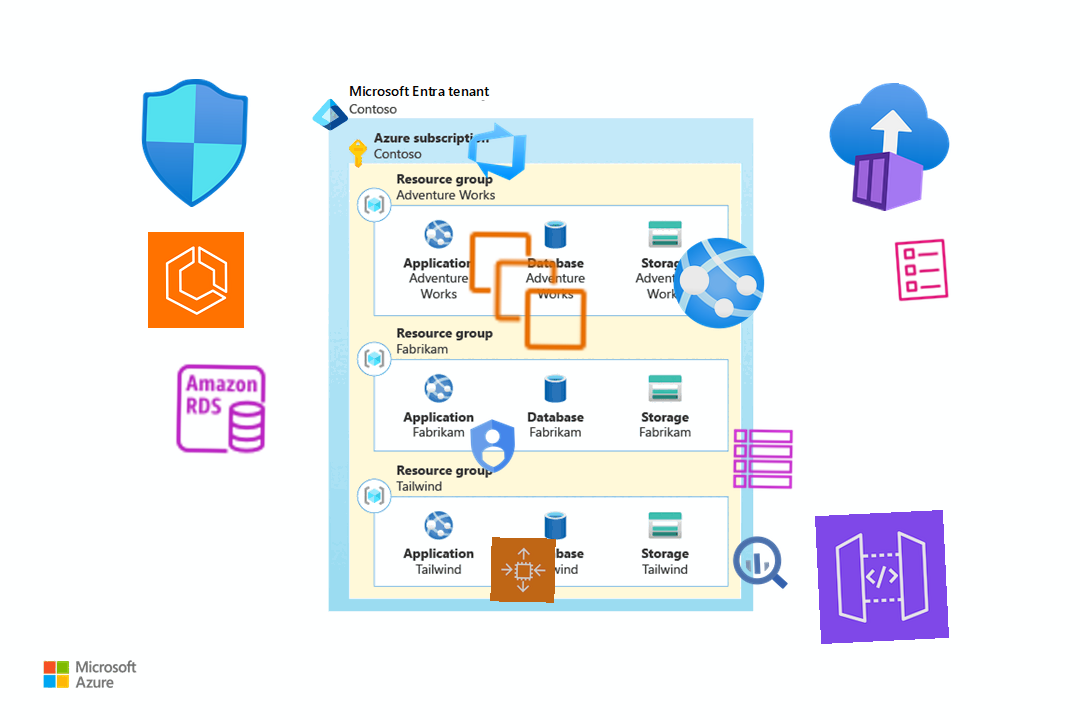aws_amazon_api_gateway: (814, 509, 950, 645)
aws_amazon_ec2_auto_scaling: (490, 537, 556, 603)
aws_amazon_elastic_container_service: (147, 231, 245, 329)
aws_aurora_amazon_rds_instance: (172, 360, 270, 458)
aws_cloudformation_template: (886, 235, 956, 305)
aws_dynamodb_table: (730, 426, 796, 492)
aws_ec2_instances: (463, 226, 593, 356)
azure_app_services: (669, 233, 769, 333)
azure_container_instances: (820, 78, 958, 216)
azure_devops: (463, 117, 531, 185)
azure_network_security_groups: (127, 76, 261, 210)
gcp_bigquery: (726, 529, 794, 597)
gcp_identity_and_access_management: (459, 412, 527, 480)
